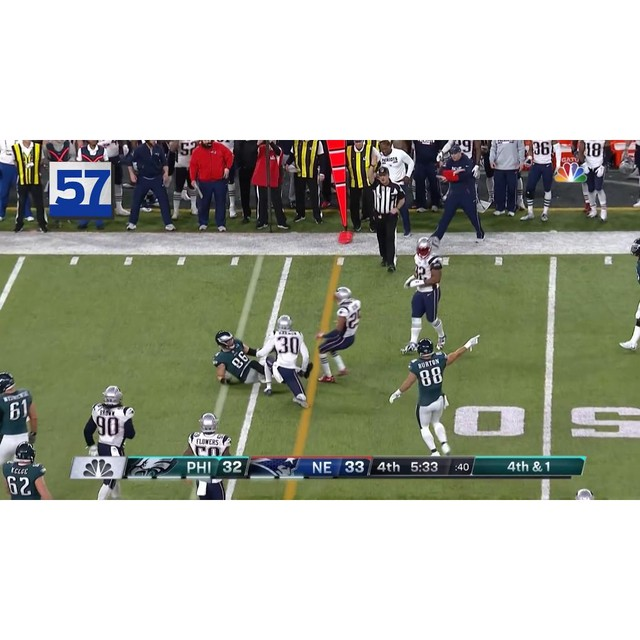american-football-player: (388, 335, 474, 458), (86, 384, 135, 499), (401, 237, 445, 354), (260, 316, 310, 408), (315, 286, 361, 384), (0, 371, 37, 489), (183, 412, 231, 499), (211, 330, 271, 392), (2, 441, 55, 500), (619, 238, 640, 352)
referee: (368, 164, 407, 274)
